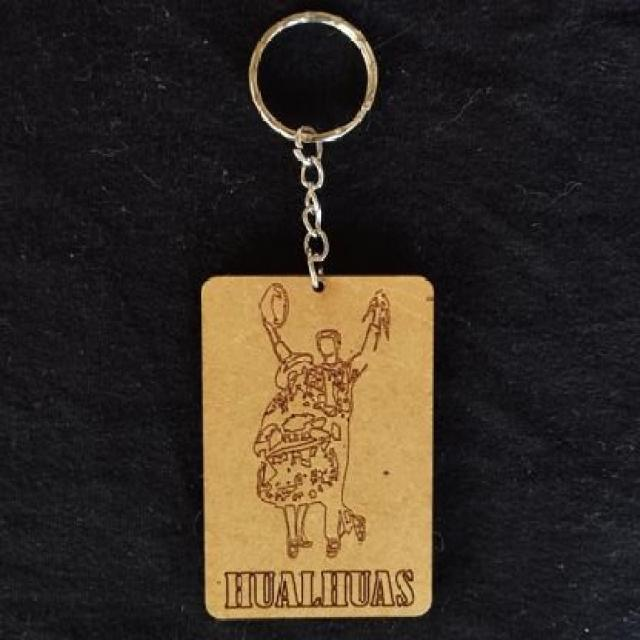Llavero: (250, 282, 390, 560)
